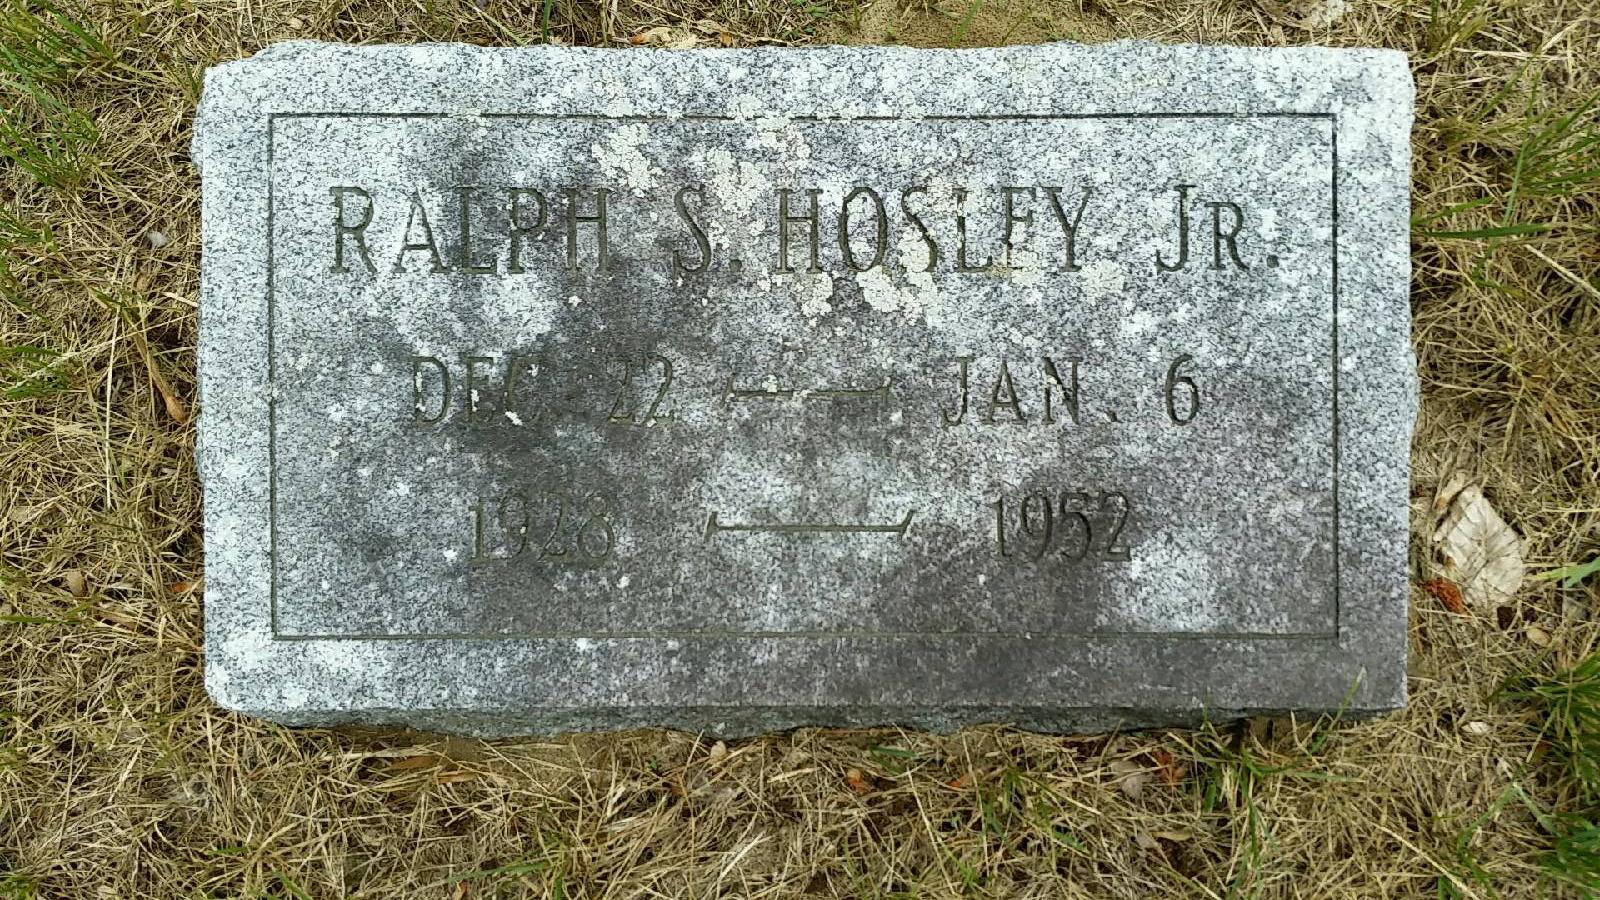flat: (195, 37, 1415, 718)
